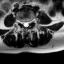CCS_normal: (25, 18, 27, 29)
LFS_normal: (30, 17, 32, 25)
LLS_normal: (27, 18, 30, 28)
RFS_normal: (20, 18, 22, 26)
RLS_normal: (22, 19, 25, 28)
